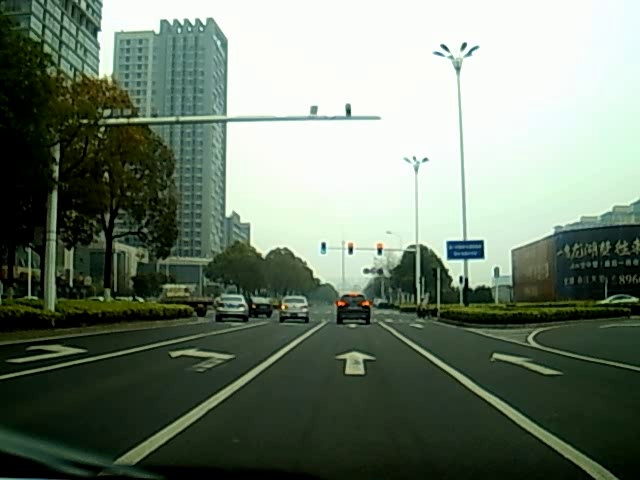Traffic_Light_go: (320, 242, 326, 254)
Traffic_Light_stop: (348, 242, 354, 256), (376, 244, 382, 256)
